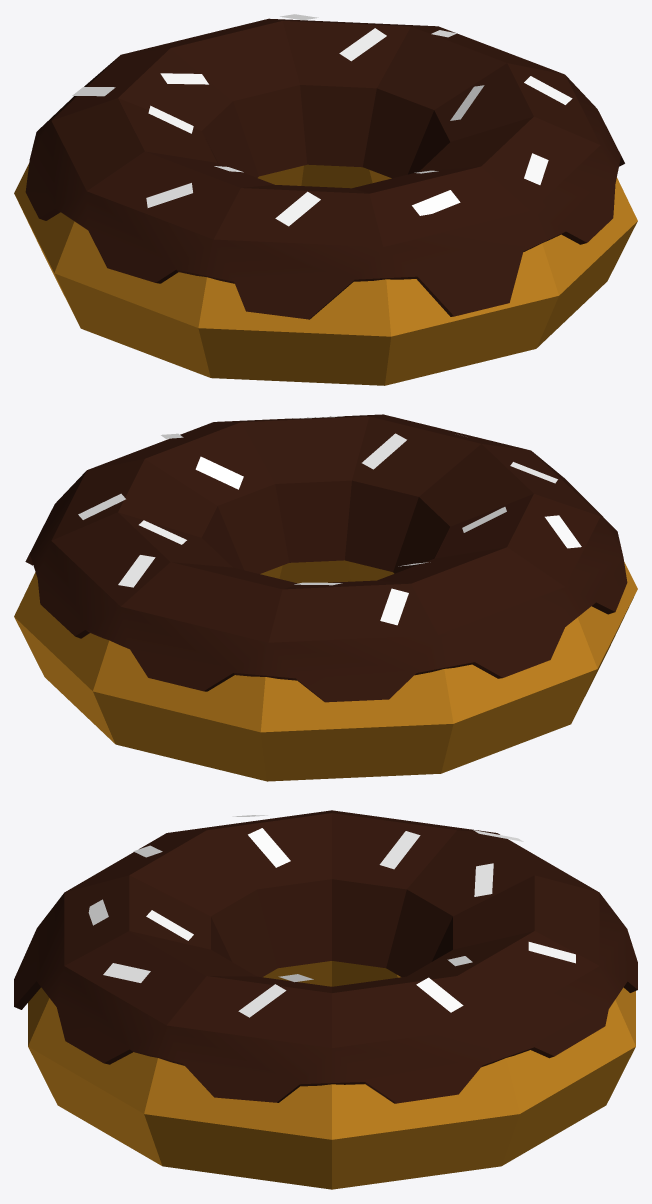
The model's file is PW_doughnut_blackNwhite.fbx.
3 renders of one model, top to bottom at view 1: azimuth 30°, elevation 25°; view 2: azimuth 150°, elevation 25°; view 3: azimuth 270°, elevation 25°, orthographic.
Visible parts, largest first — view 1: doughnut_blackNwhite; view 2: doughnut_blackNwhite; view 3: doughnut_blackNwhite.
Part boxes in pixels (x1,y1,x2,y2): doughnut_blackNwhite: (14,14,637,385); doughnut_blackNwhite: (14,414,637,781); doughnut_blackNwhite: (14,810,637,1189).
Size of the model in its own units: 30 by 10.06 by 29.28.
Materials: 1 (1 with a texture image).
